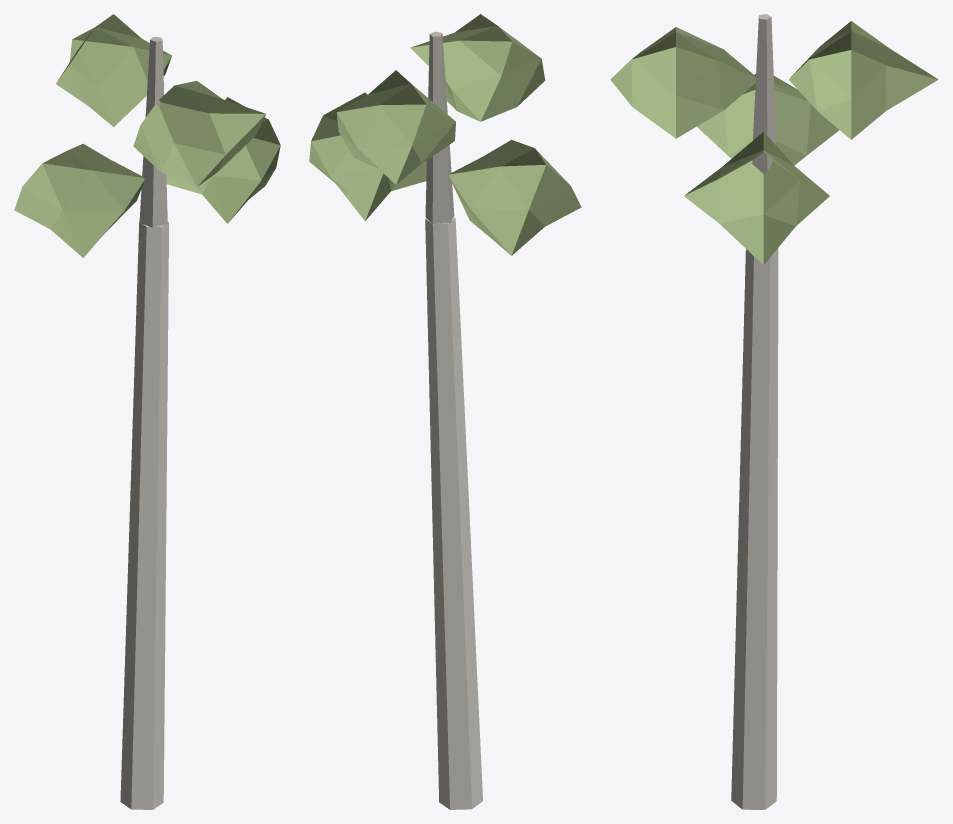
Rendered from birch_v06.glb.
3 views of the same model, side by side, from view 1: azimuth 30°, elevation 25°; view 2: azimuth 150°, elevation 25°; view 3: azimuth 270°, elevation 25° (orthographic). The views are drawn at different scales.
Parts seen in each view (by area): view 1: lod0; view 2: lod0; view 3: lod0.
Part boxes in pixels (box(x1,y1,x2,y2)): lod0: box(14, 14, 280, 809); lod0: box(309, 14, 581, 809); lod0: box(610, 14, 938, 809).
Size of what is drawn, in the model's own units: 1.85 by 5 by 1.88.
